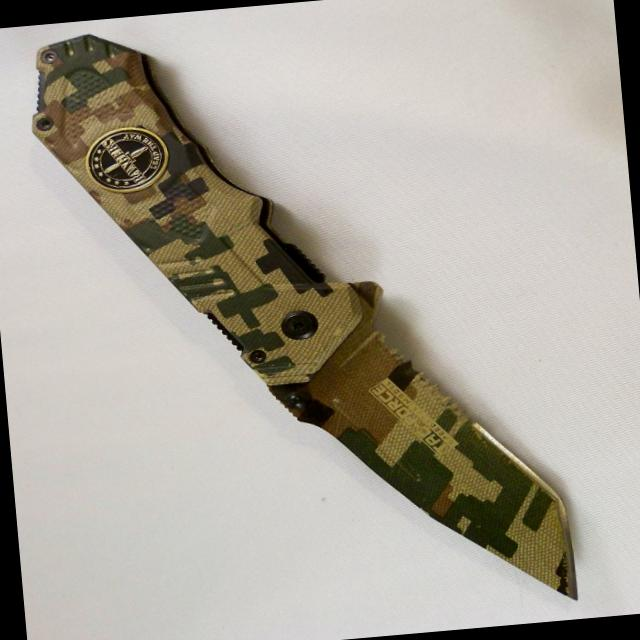knife: (224, 270, 591, 636)
